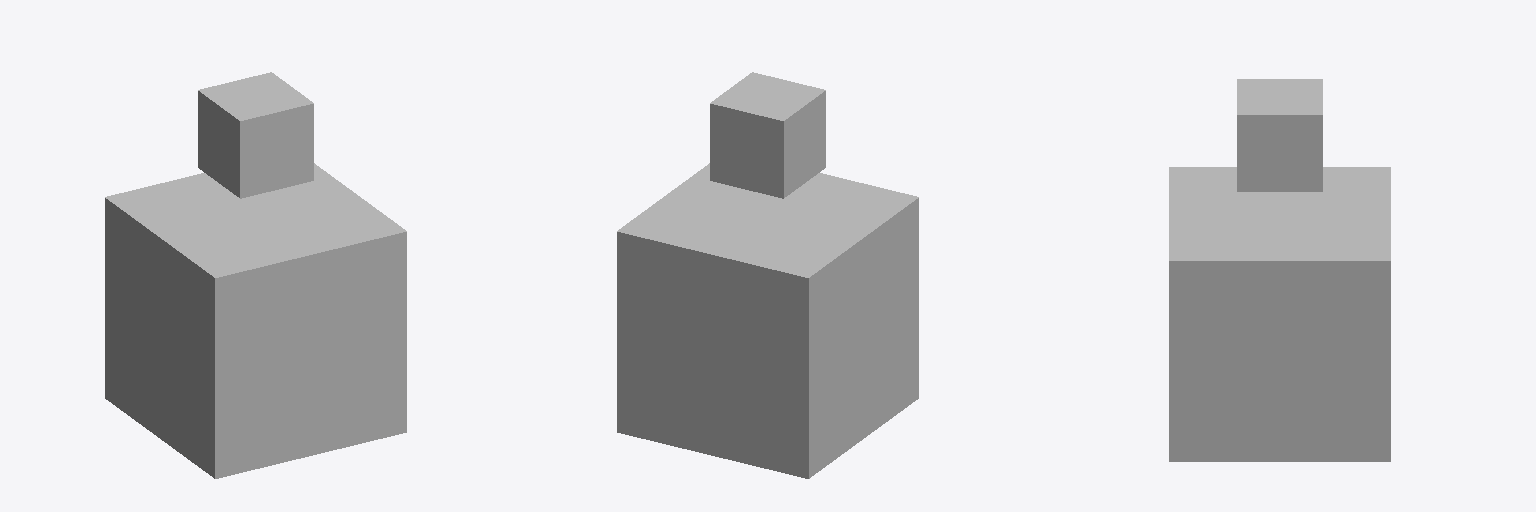
Rendered from TwoCubeTriangulate.obj.
3 renders of one model, left to right at view 1: azimuth 30°, elevation 25°; view 2: azimuth 150°, elevation 25°; view 3: azimuth 270°, elevation 25°, orthographic.
Parts seen in each view (by area): view 1: Cube_Cube.001, Cube.001_Cube.002; view 2: Cube_Cube.001, Cube.001_Cube.002; view 3: Cube_Cube.001, Cube.001_Cube.002.
Part boxes in pixels (x1,y1,x2,y2): Cube_Cube.001: (105, 163, 406, 478); Cube.001_Cube.002: (198, 72, 313, 198); Cube_Cube.001: (617, 163, 918, 478); Cube.001_Cube.002: (710, 72, 825, 198); Cube_Cube.001: (1169, 167, 1390, 461); Cube.001_Cube.002: (1237, 79, 1322, 191).
Bounding box in the file's own units: 2 × 3.17 × 2.